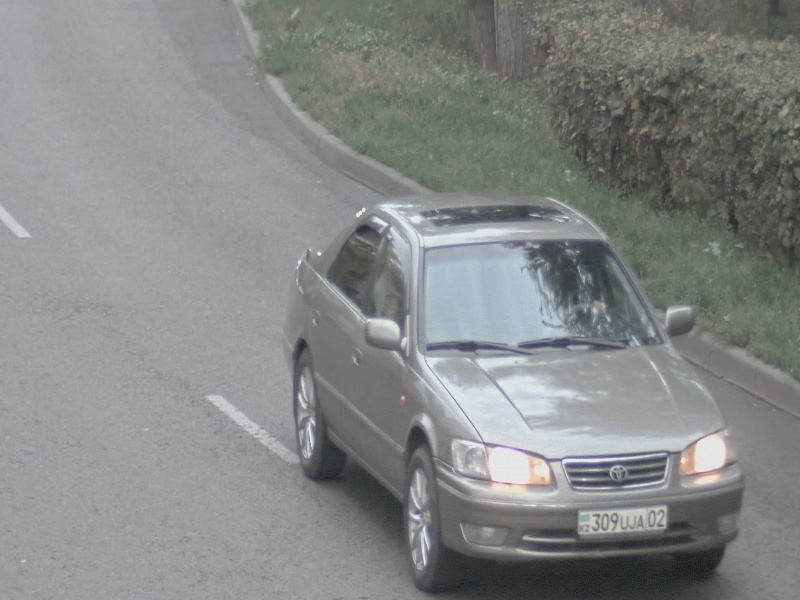plate: (575, 502, 669, 536)
